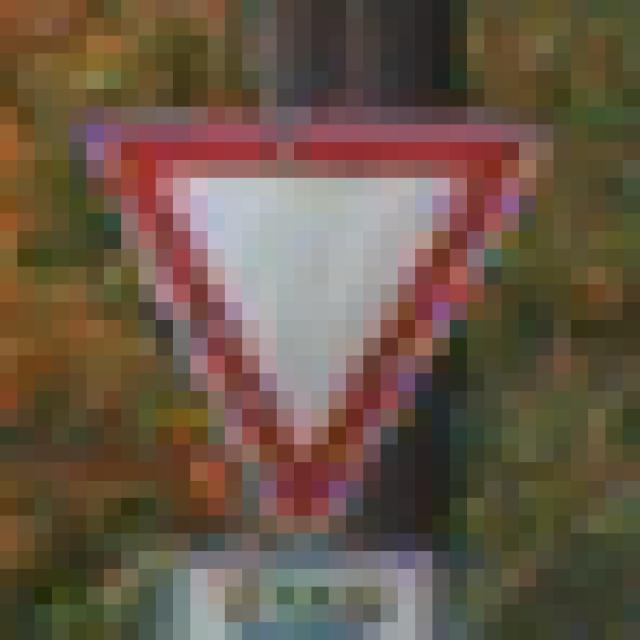Give Way: (88, 90, 555, 552)
